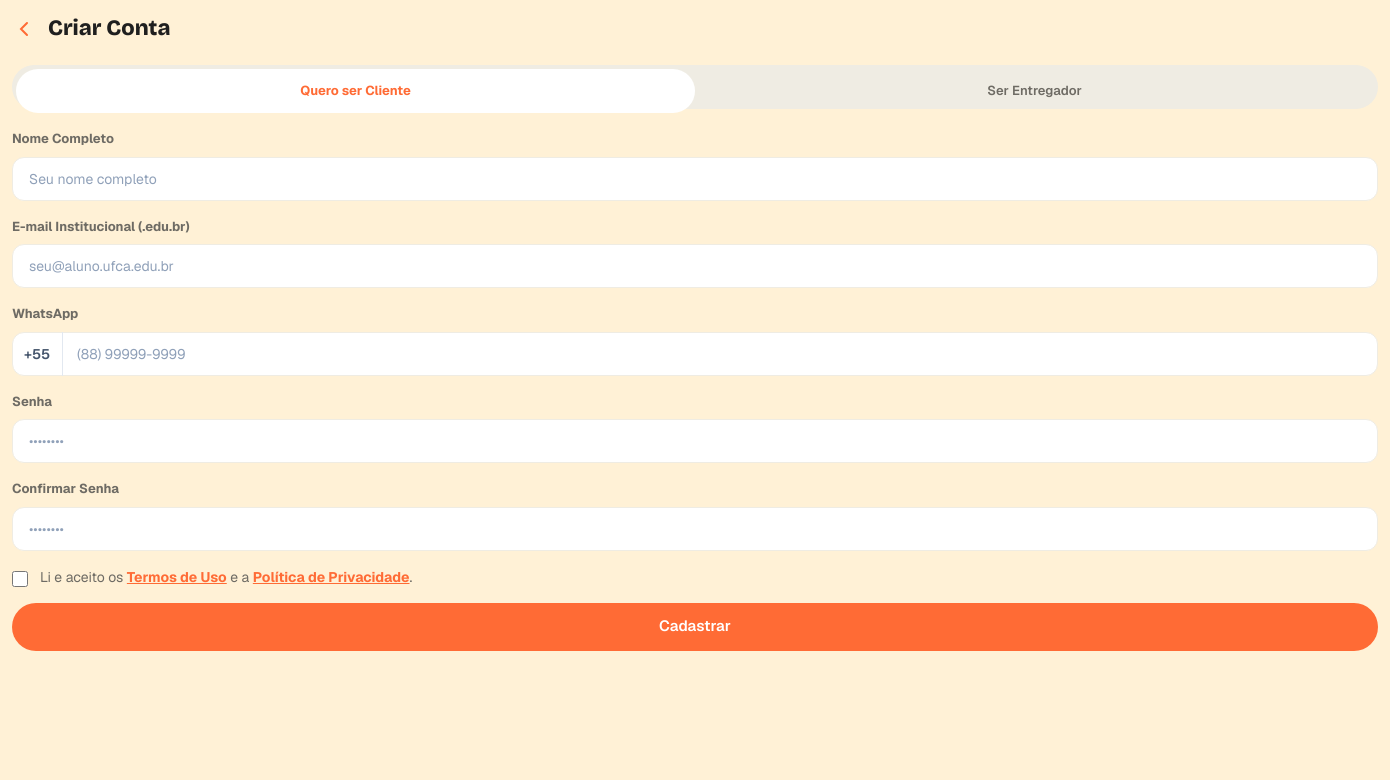
Test: RegisterPage › shows a visual message for API status 403
Type "Cliente Teste" into the field labelled "Nome Completo".
click(695, 178); type("Cliente Teste")  # box [12,156,1378,200]
Type "cliente@ufca.edu.br" into the field labelled "E-mail Institucional (.edu.br)".
click(695, 266); type("cliente@ufca.edu.br")  # box [12,244,1378,288]
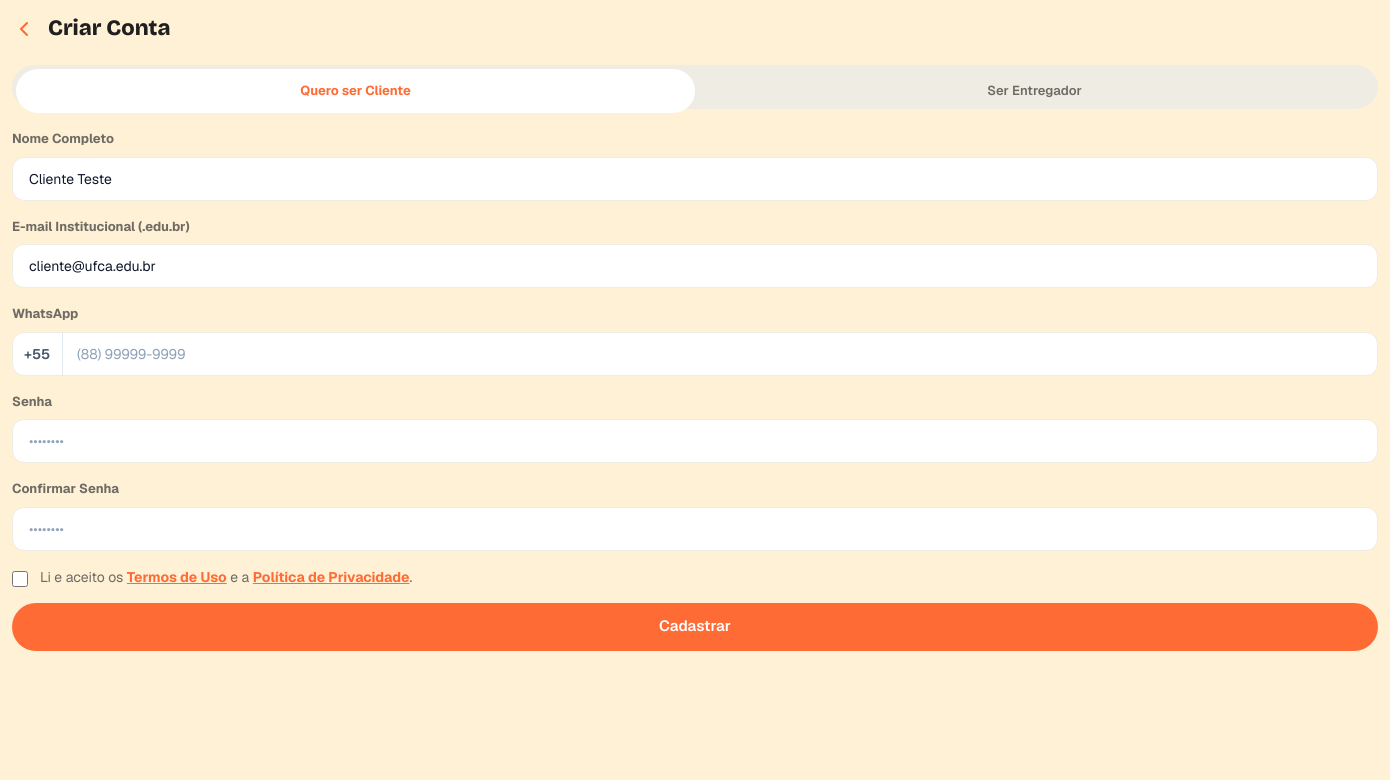
Type "5588999999999" into the field labelled "WhatsApp".
click(695, 354); type("5588999999999")  # box [12,332,1378,376]
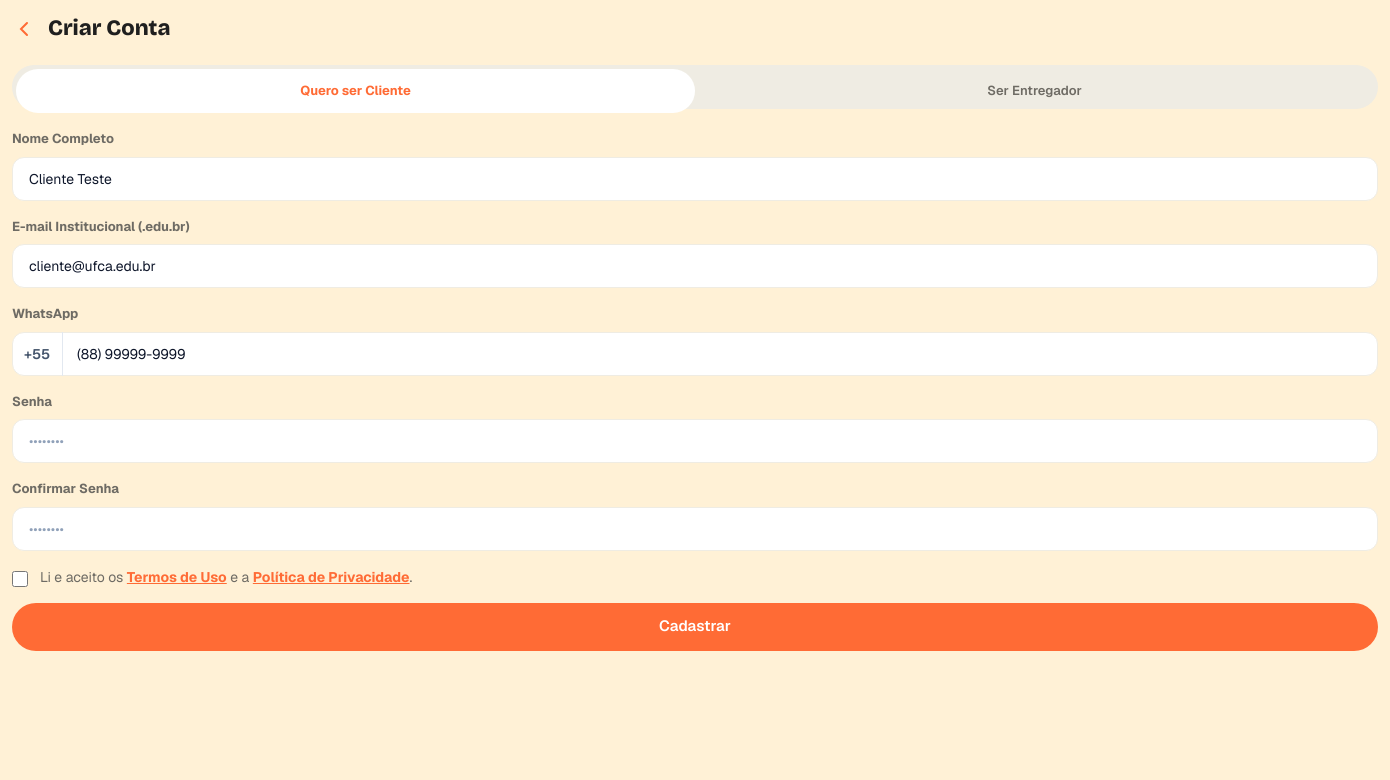
Type "Password123" into the password field labelled "Senha".
click(695, 441); type("Password123")  # box [12,419,1378,463]
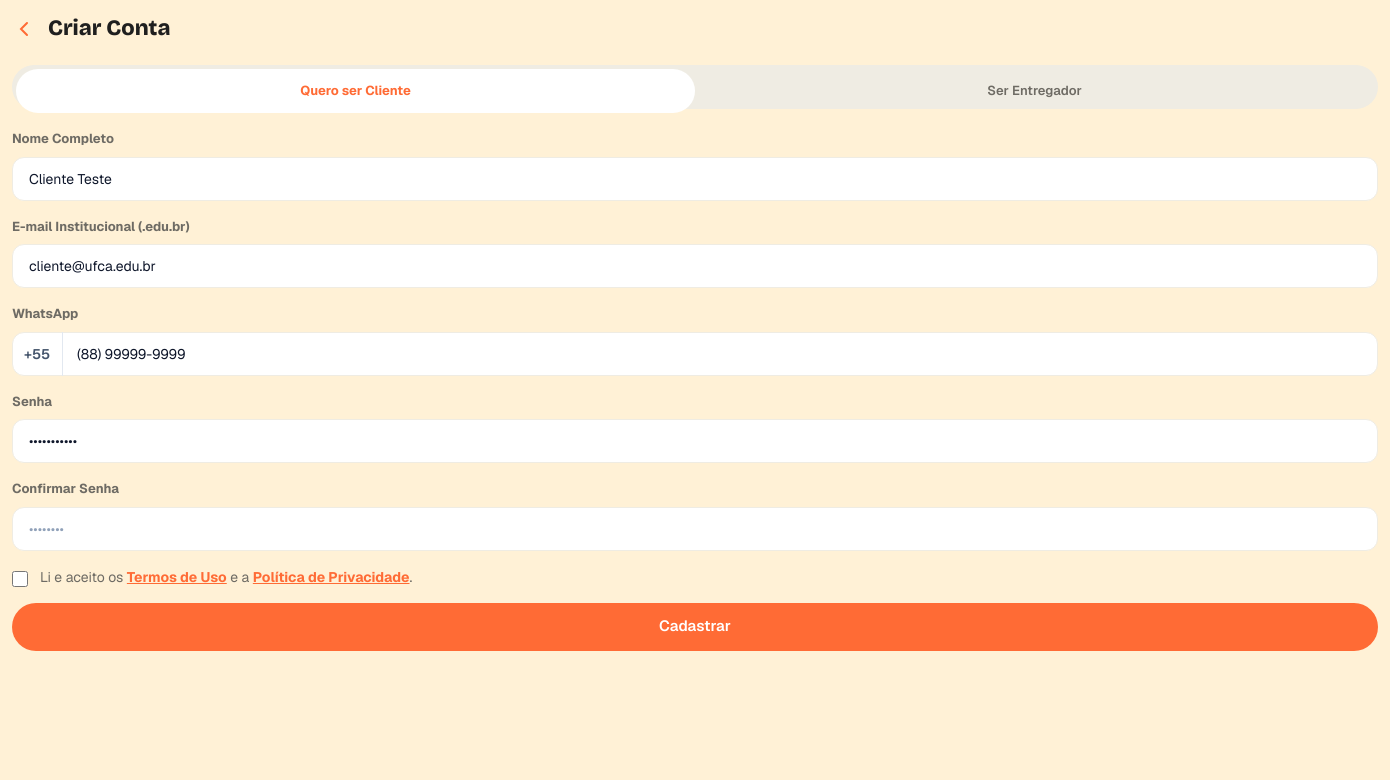
Type "Password123" into the password field labelled "Confirmar Senha".
click(695, 528); type("Password123")  # box [12,506,1378,550]
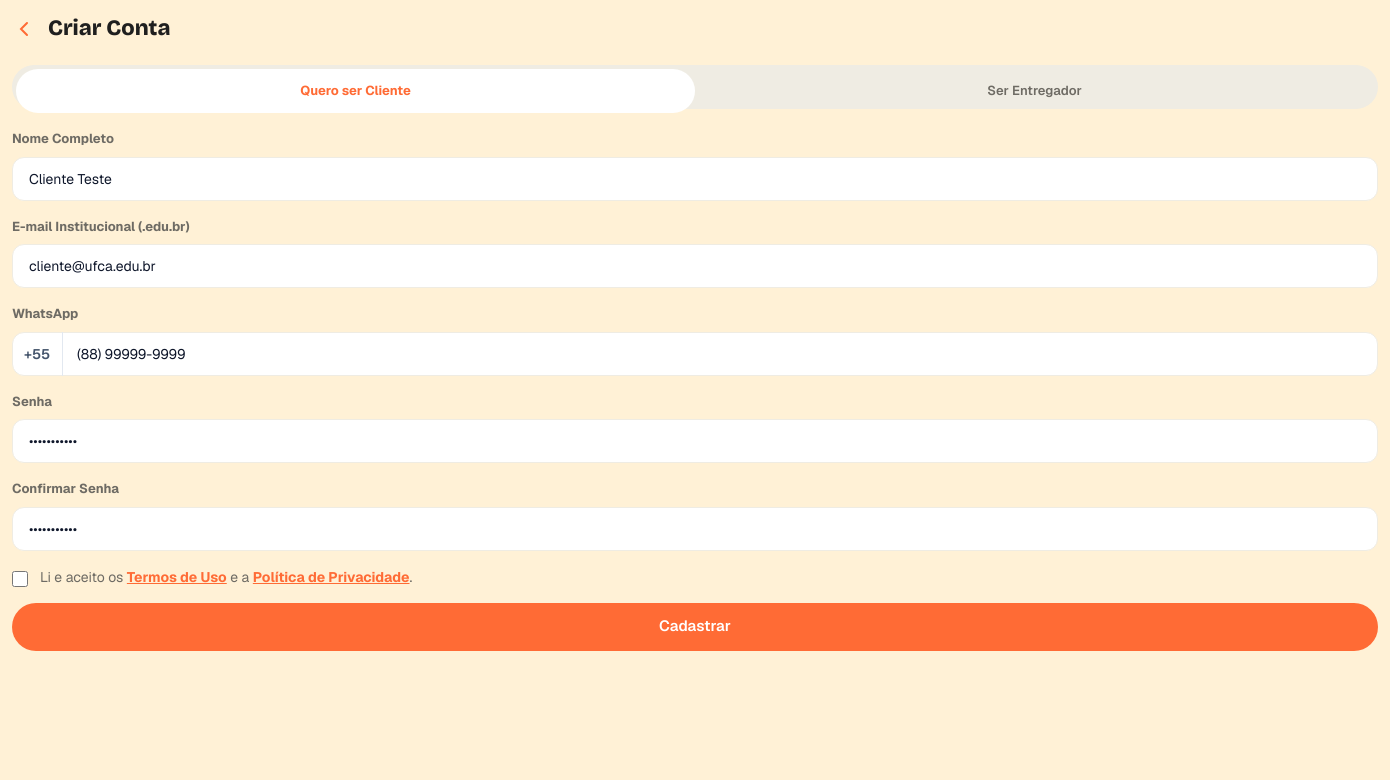
Click the checkbox.
click(20, 578)  # box [12,570,28,586]
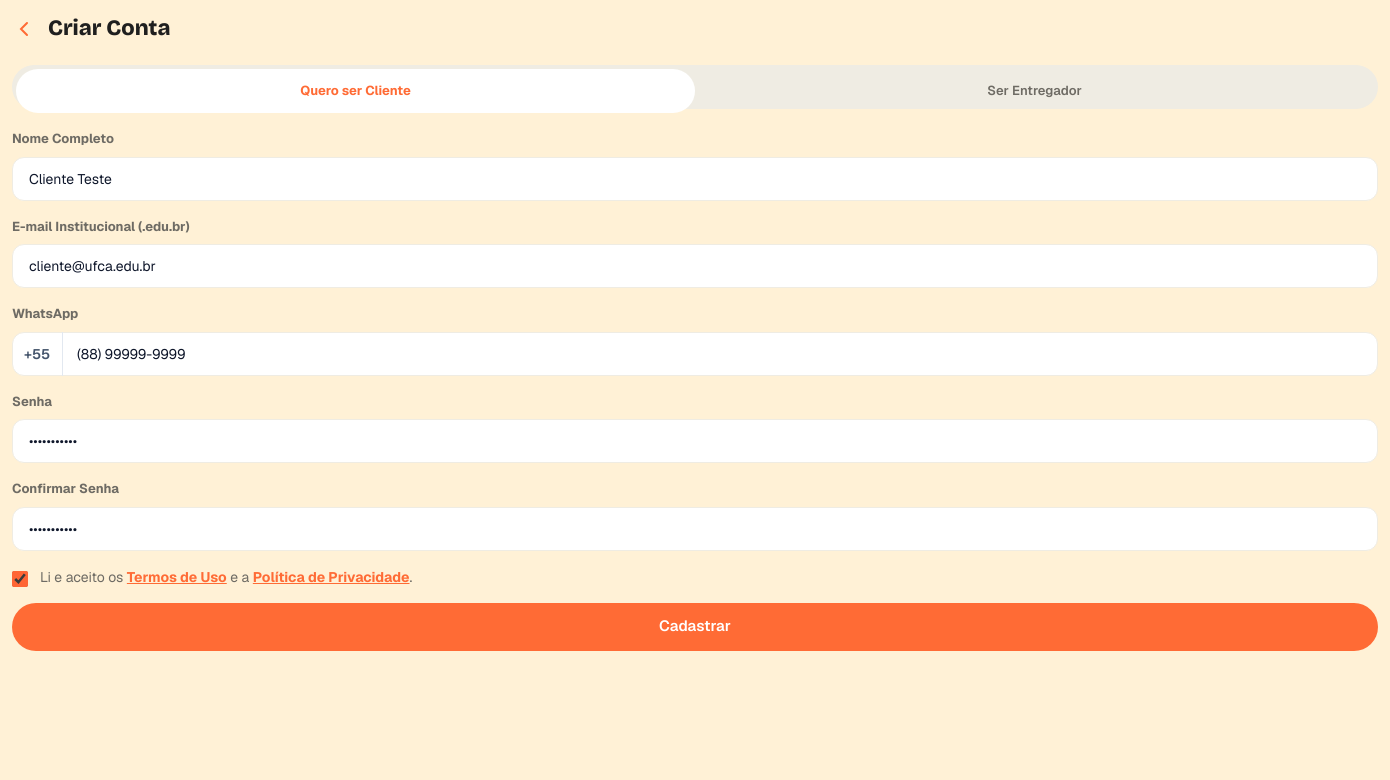
Click the button "Cadastrar".
click(695, 626)  # box [12,602,1378,650]
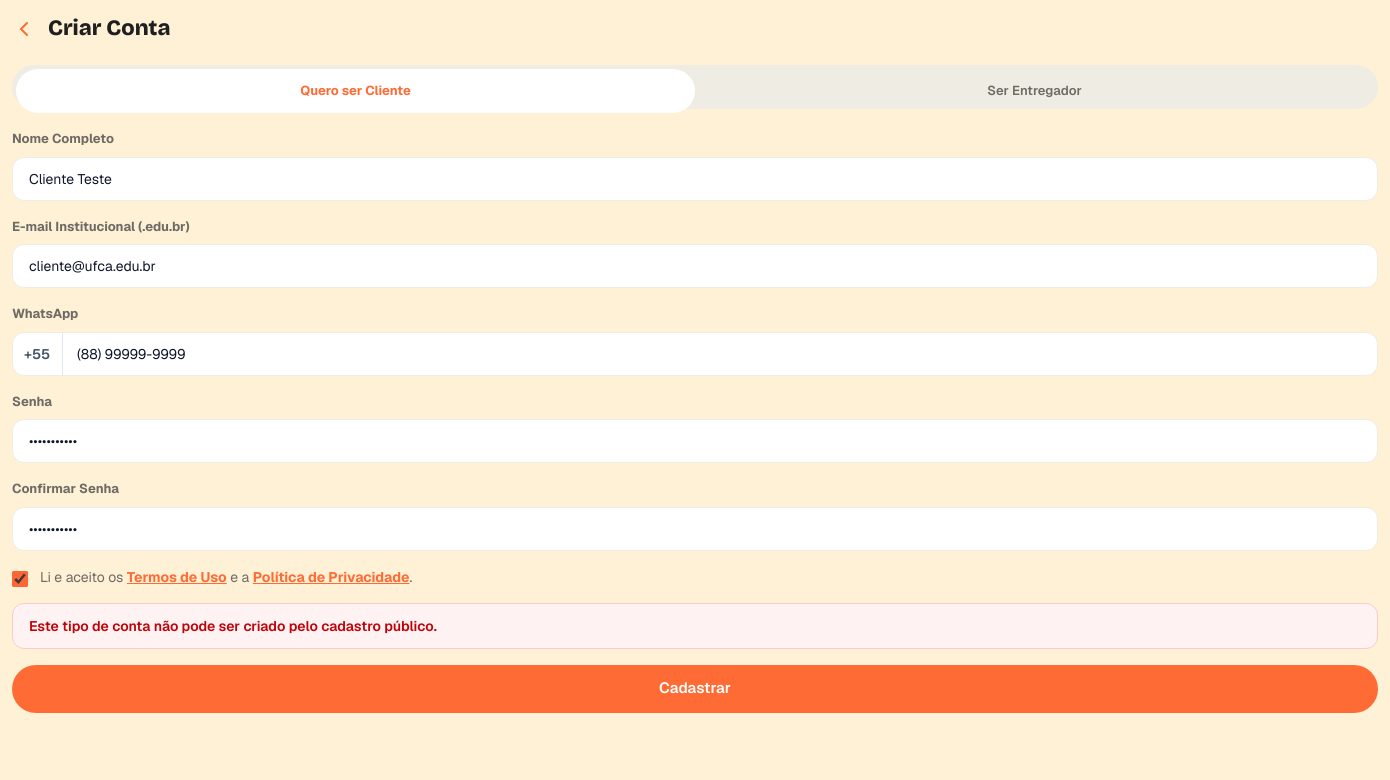
Expected: the message reads "Este tipo de conta não pode ser criado pelo cadastro público.", [29,616,437,634]
